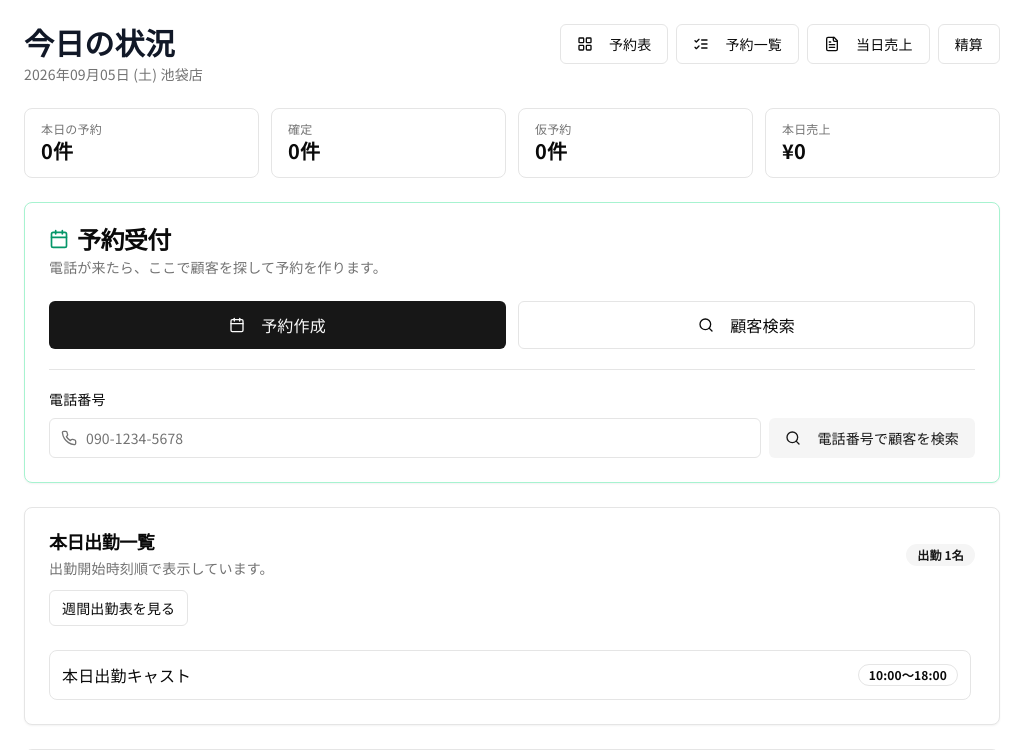
DashboardPage field operations › keeps a legacy non-writable phone searchable when an existing customer owns it
Type "090-123-4567" into the field labelled "電話番号" at (405, 438), box top-left (49, 418), bottom-right (761, 458)
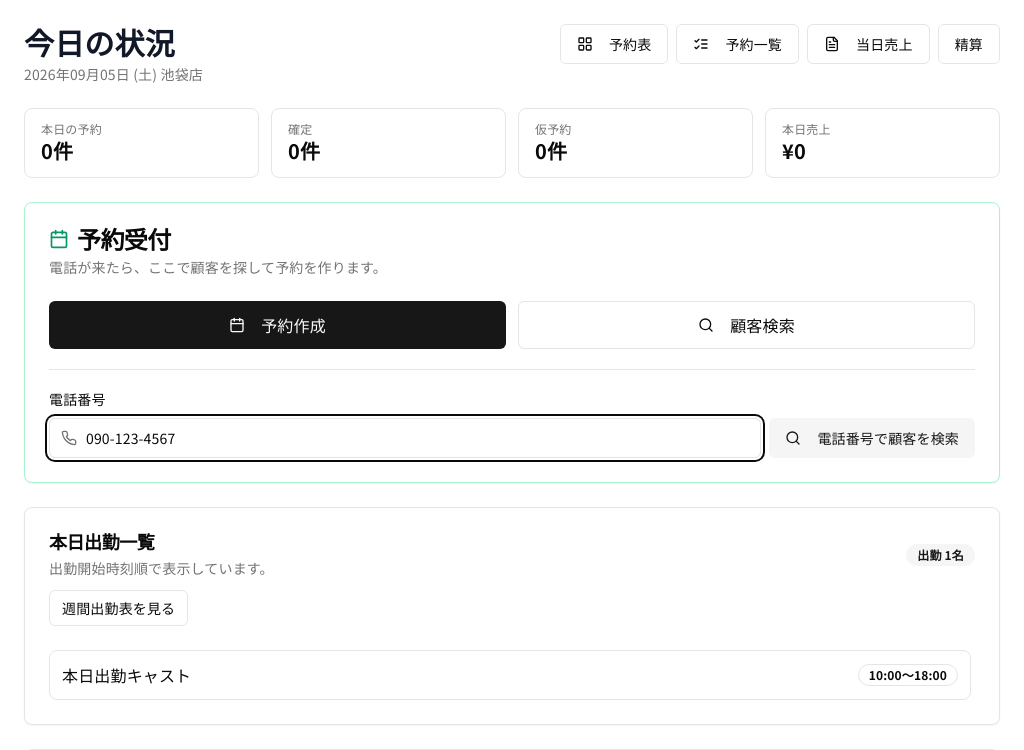
Click the button "電話番号で顧客を検索" at (872, 438), box top-left (769, 418), bottom-right (975, 458)
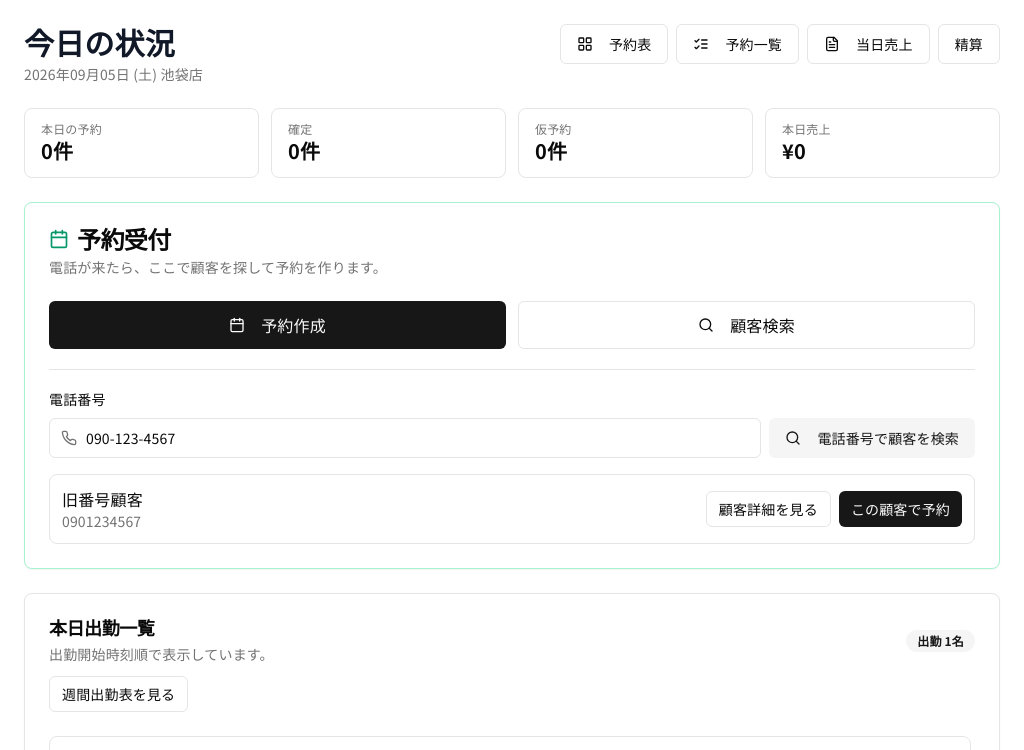
Now the text "0901234567" is shown, box top-left (62, 511), bottom-right (143, 531)
